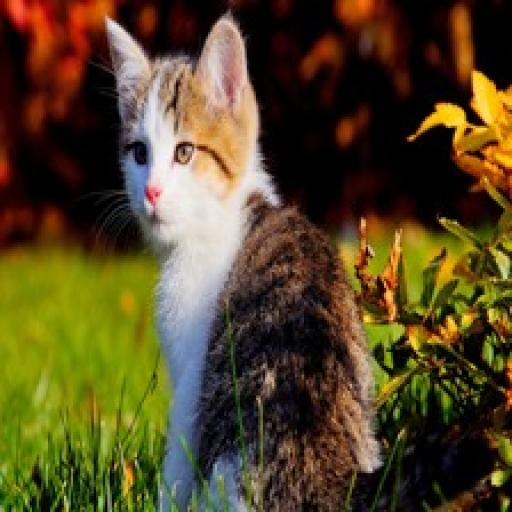cat: (84, 10, 382, 512)
